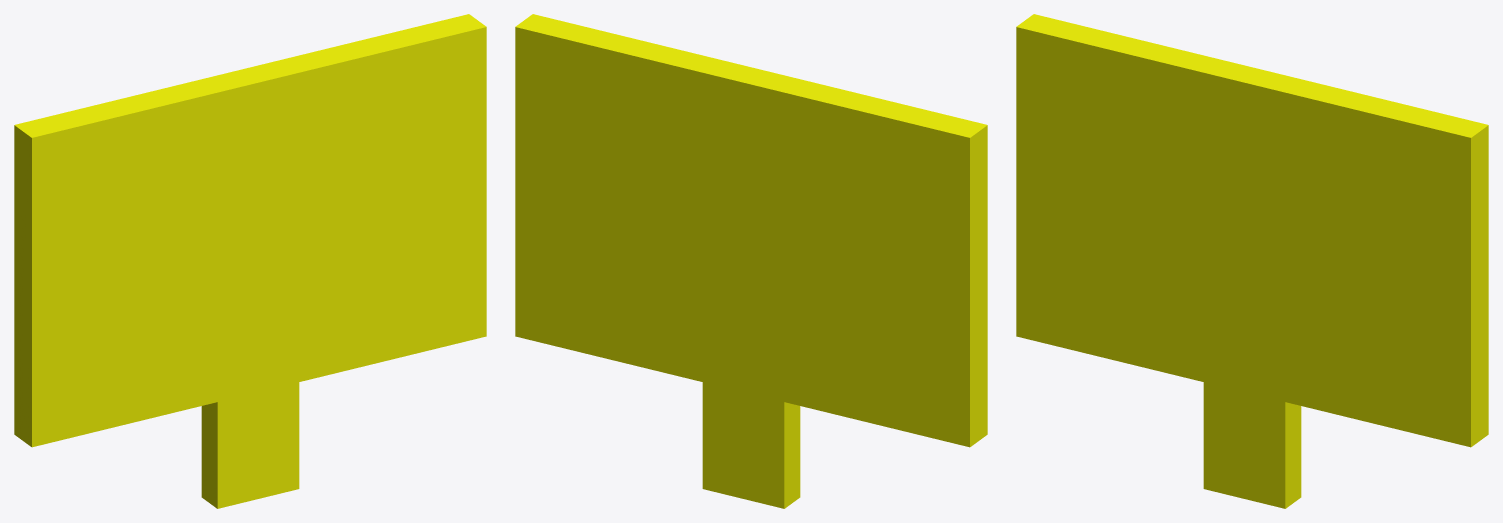
The model's file is screen.FBX.
3 views of the same model, side by side, from view 1: azimuth 30°, elevation 25°; view 2: azimuth 150°, elevation 25°; view 3: azimuth 330°, elevation 25° (orthographic).
Visible parts, largest first — view 1: Box152; view 2: Box152; view 3: Box152.
Part boxes in pixels (box(x1,y1,x2,y2)): Box152: box(14, 14, 486, 508); Box152: box(515, 14, 987, 508); Box152: box(1016, 14, 1488, 508).
Size of the model in its own units: 574 by 503 by 38.69.
